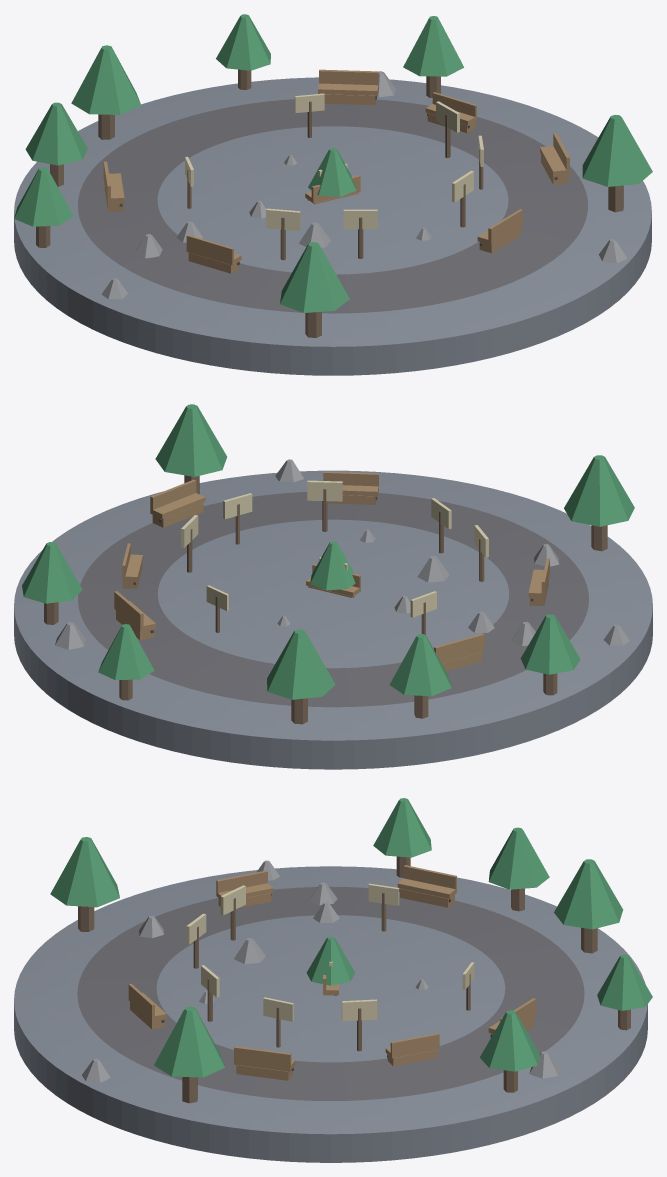
The model's file is ScrollTest.glb.
The picture shows the model from 3 angles, top to bottom: view 1: azimuth 30°, elevation 25°; view 2: azimuth 150°, elevation 25°; view 3: azimuth 270°, elevation 25°; orthographic projection.
Visible parts, largest first — view 1: DomedBase, WalkwayRing, Tree_04_Crown, Tree_01_Crown, Tree_05_Crown, Tree_00_Crown, Tree_02_Crown, Tree_03_Crown, Bench_05_Main, Tree_06_Crown, TreePrefab_Crown, Bench_00_Main (+6 smaller); view 2: DomedBase, WalkwayRing, Tree_04_Crown, Tree_01_Crown, Tree_05_Crown, Tree_00_Crown, Tree_02_Crown, Tree_03_Crown, Tree_06_Crown, Bench_03_Main, TreePrefab_Crown, Bench_02_Main (+8 smaller); view 3: DomedBase, WalkwayRing, Tree_04_Crown, Tree_05_Crown, Tree_01_Crown, Tree_00_Crown, Tree_02_Crown, Tree_03_Crown, Tree_06_Crown, Bench_04_Main, Bench_03_Main, TreePrefab_Crown (+9 smaller).
Boxes of the visible parts, <box> form: DomedBase: <box>14,77,651,375</box>; WalkwayRing: <box>77,99,587,313</box>; Tree_04_Crown: <box>582,115,652,186</box>; Tree_01_Crown: <box>280,242,349,312</box>; Tree_05_Crown: <box>71,45,140,114</box>; Tree_00_Crown: <box>25,102,87,165</box>; Tree_02_Crown: <box>403,16,463,76</box>; Tree_03_Crown: <box>14,167,73,226</box>; Bench_05_Main: <box>318,69,378,105</box>; Tree_06_Crown: <box>216,14,270,70</box>; TreePrefab_Crown: <box>308,147,356,196</box>; Bench_00_Main: <box>186,235,241,273</box>; DomedBase: <box>14,470,652,769</box>; WalkwayRing: <box>78,492,588,707</box>; Tree_04_Crown: <box>155,404,226,476</box>; Tree_01_Crown: <box>564,455,634,526</box>; Tree_05_Crown: <box>267,629,335,699</box>; Tree_00_Crown: <box>389,634,451,696</box>; Tree_02_Crown: <box>22,542,82,603</box>; Tree_03_Crown: <box>520,614,580,674</box>; Tree_06_Crown: <box>98,624,154,680</box>; Bench_03_Main: <box>150,479,205,527</box>; TreePrefab_Crown: <box>310,541,355,590</box>; Bench_02_Main: <box>323,471,378,504</box>; DomedBase: <box>14,866,647,1162</box>; WalkwayRing: <box>77,886,584,1100</box>; Tree_04_Crown: <box>154,1006,224,1077</box>; Tree_05_Crown: <box>554,859,623,929</box>; Tree_01_Crown: <box>50,837,119,907</box>; Tree_00_Crown: <box>488,827,549,889</box>; Tree_02_Crown: <box>480,1010,539,1071</box>; Tree_03_Crown: <box>373,798,431,857</box>; Tree_06_Crown: <box>597,954,652,1010</box>; Bench_04_Main: <box>397,865,456,907</box>; Bench_03_Main: <box>234,1046,295,1080</box>; TreePrefab_Crown: <box>306,936,355,985</box>.
Size of the model in its own units: 24.13 by 5.14 by 24.19.
